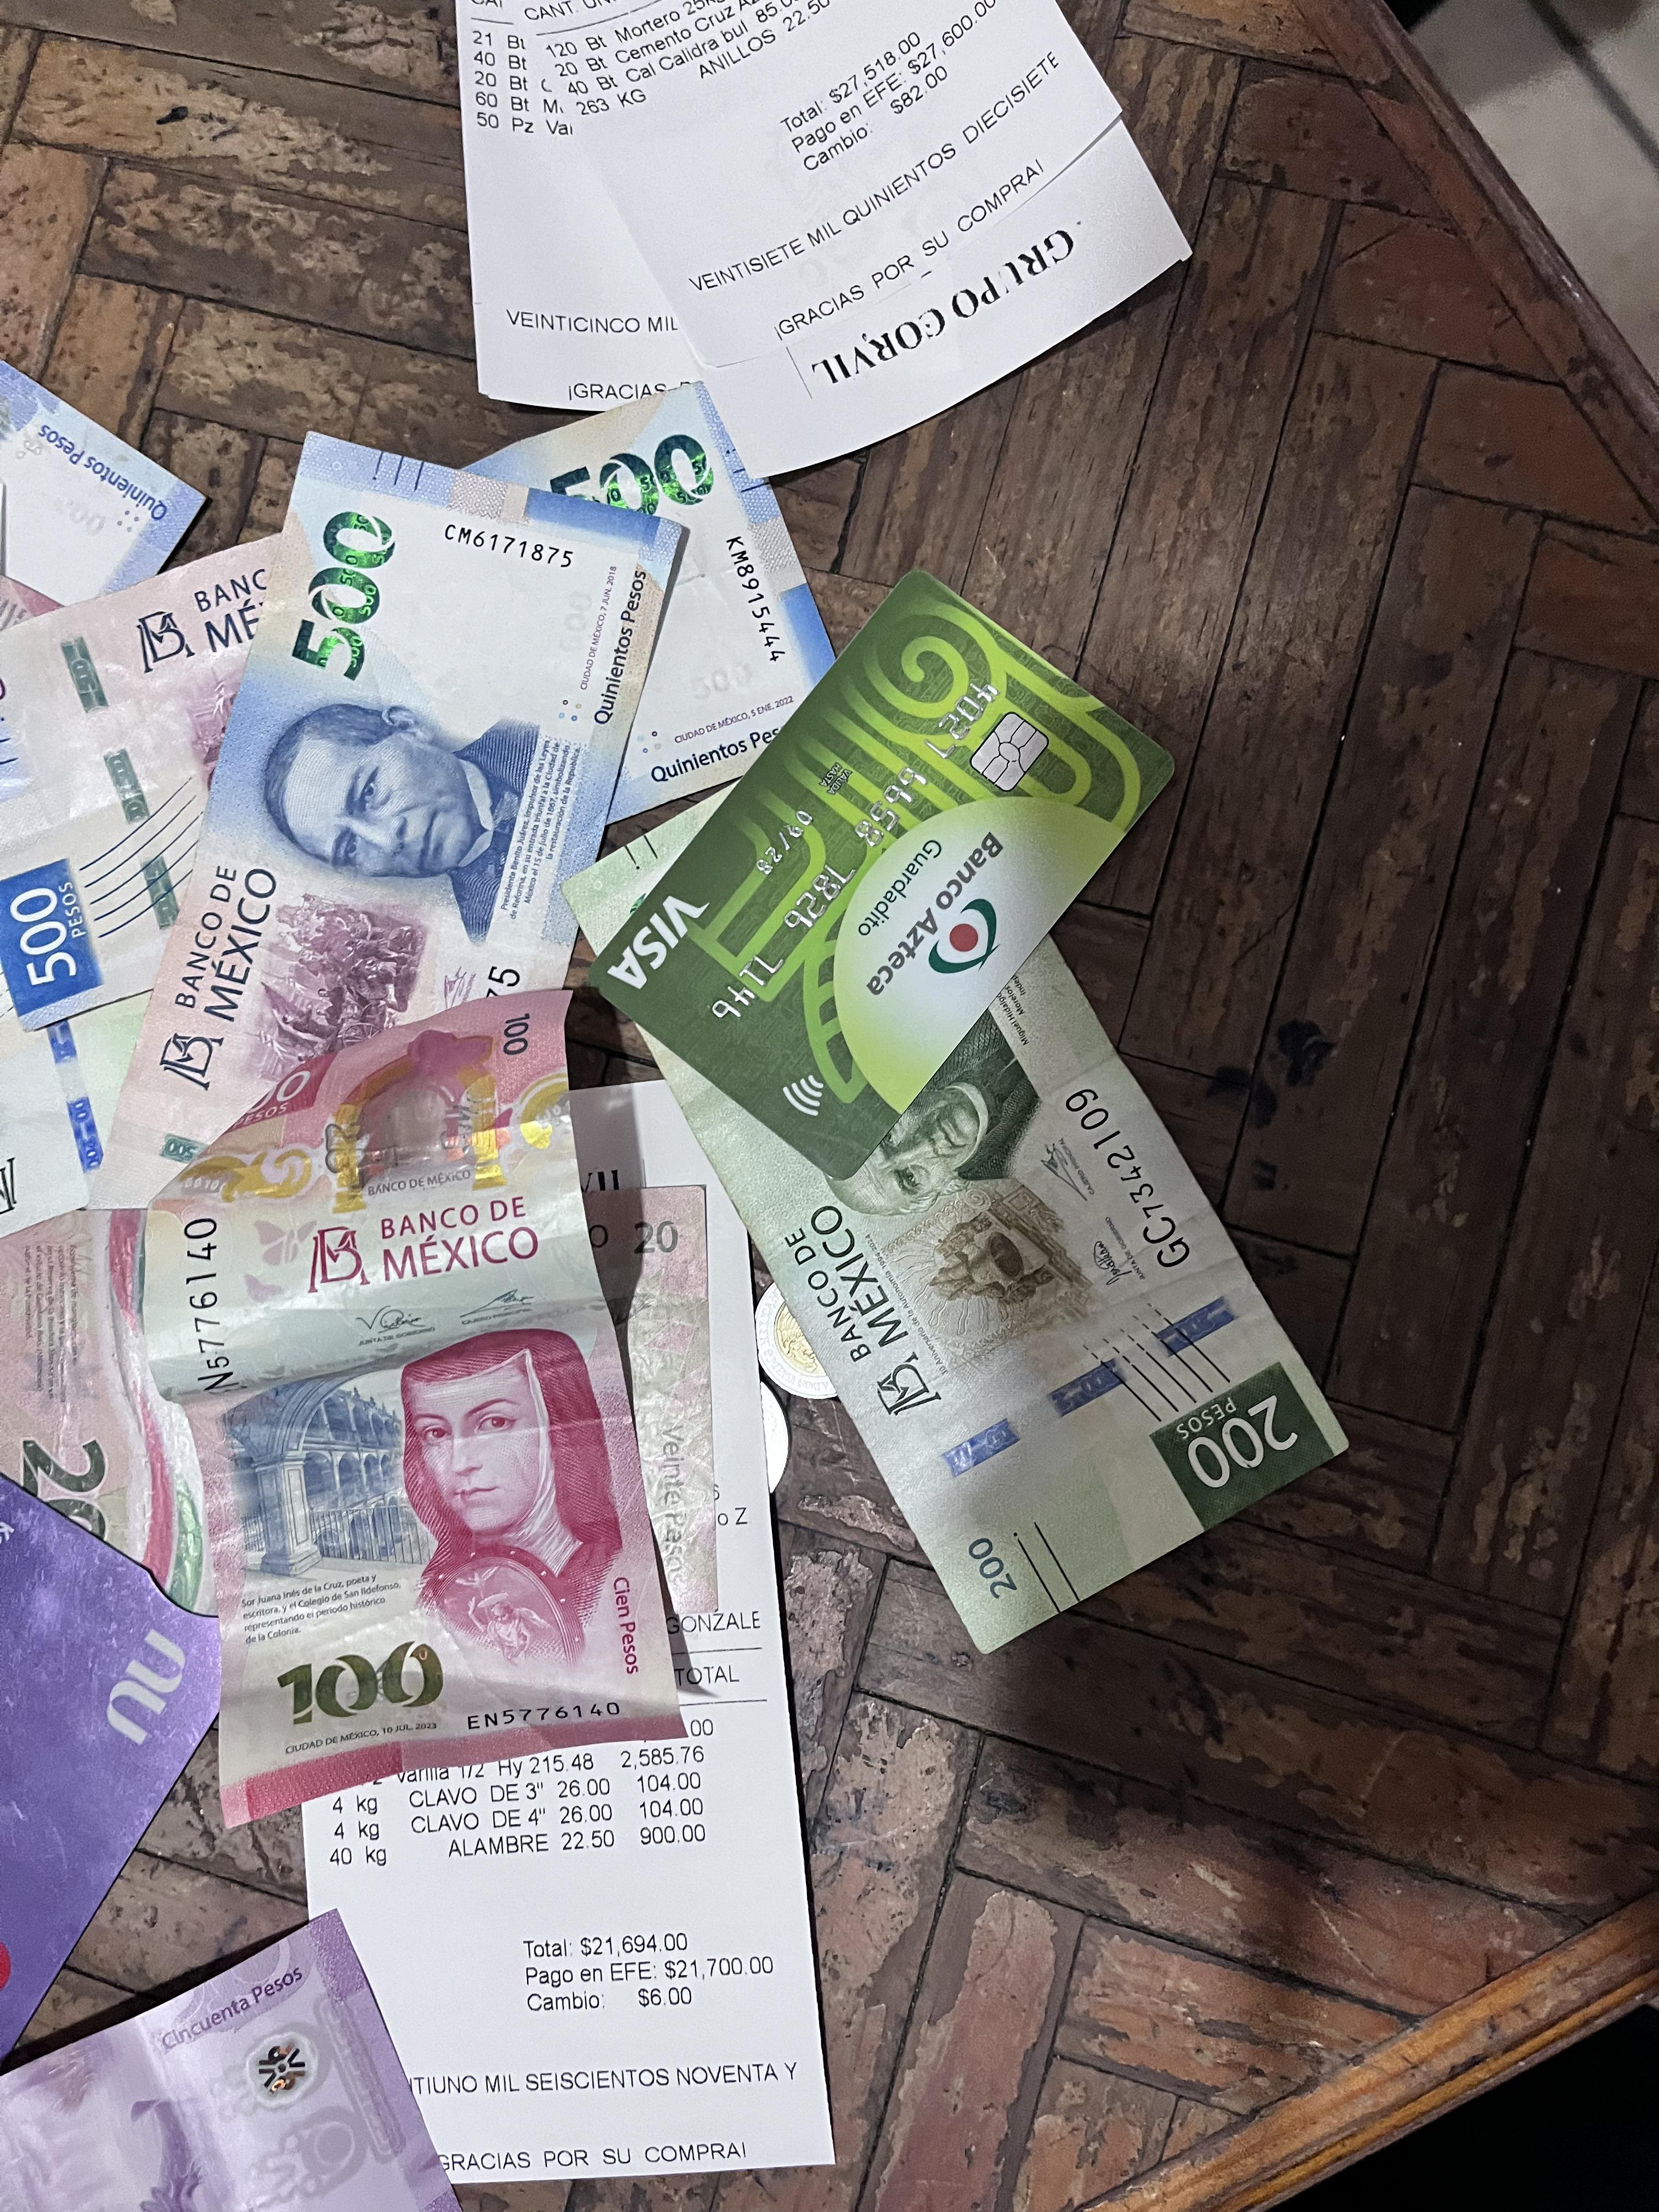100: (129, 989, 737, 1886)
20: (0, 1195, 727, 1646)
200: (549, 752, 1337, 1662)
50: (0, 1904, 476, 2212)
500 nuevo: (0, 368, 852, 998), (96, 421, 683, 1207)
